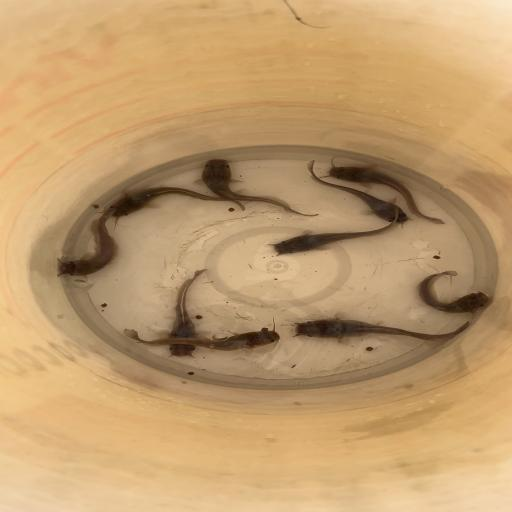lele: (326, 160, 448, 226), (198, 156, 322, 218), (300, 160, 414, 226), (259, 206, 404, 256), (47, 208, 120, 278), (92, 186, 248, 218), (160, 268, 213, 360), (288, 317, 471, 342), (118, 326, 282, 351), (415, 270, 491, 316)
